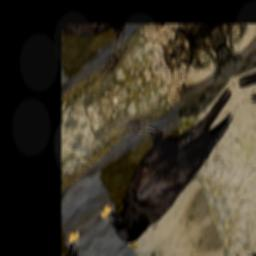Crow: (81, 51, 252, 256)
